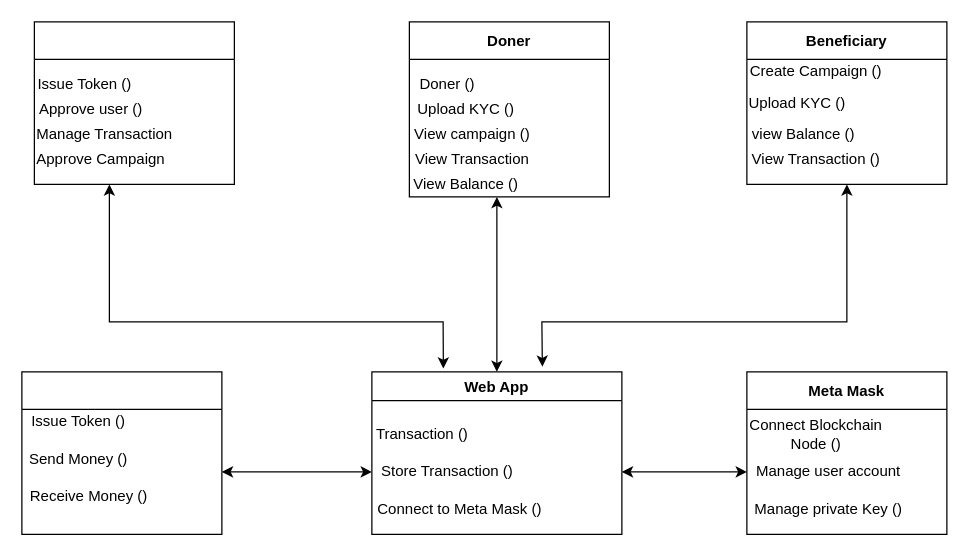
Some shapes in this 969 by 556 pixel diagram are drawn without their labels. The box of each missing label's shape, as (x1, y1, x2, y2) in pixels:
Admin: (33, 21, 234, 184)
Smart contract: (21, 371, 222, 534)
